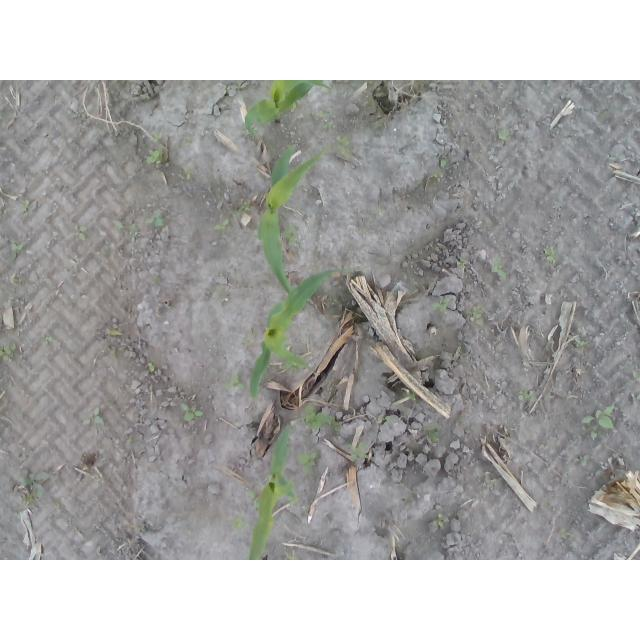Maize: (250, 264, 354, 400), (258, 143, 322, 309), (247, 428, 295, 560), (245, 80, 332, 144)
Weeds: (579, 401, 623, 441), (11, 469, 49, 507), (304, 404, 341, 432), (225, 368, 248, 400), (296, 450, 320, 475), (179, 400, 207, 421), (80, 407, 105, 429), (343, 442, 369, 463), (144, 207, 169, 227), (336, 134, 354, 160), (490, 255, 506, 282), (142, 146, 163, 166), (425, 424, 442, 448), (624, 366, 640, 390), (463, 306, 482, 326), (319, 111, 338, 130), (321, 87, 353, 98), (230, 511, 249, 529), (213, 214, 232, 231), (282, 223, 298, 243), (0, 343, 16, 363), (231, 200, 253, 214), (9, 239, 23, 261), (543, 244, 558, 264), (73, 223, 89, 241), (433, 512, 449, 528), (432, 299, 449, 314), (518, 388, 538, 400), (114, 221, 138, 231), (497, 128, 511, 145), (574, 341, 594, 352), (559, 528, 575, 541), (575, 455, 593, 466), (282, 362, 303, 370), (151, 130, 162, 144), (608, 152, 625, 161), (284, 552, 300, 561), (17, 199, 31, 209), (288, 495, 300, 505), (222, 81, 230, 96), (432, 172, 444, 182), (184, 168, 193, 181), (148, 360, 157, 373), (407, 391, 418, 401), (439, 159, 450, 169), (385, 415, 396, 425), (375, 207, 385, 217), (615, 467, 625, 477), (246, 490, 258, 498), (456, 259, 465, 268), (290, 103, 300, 111), (239, 95, 246, 103), (236, 82, 241, 92)
